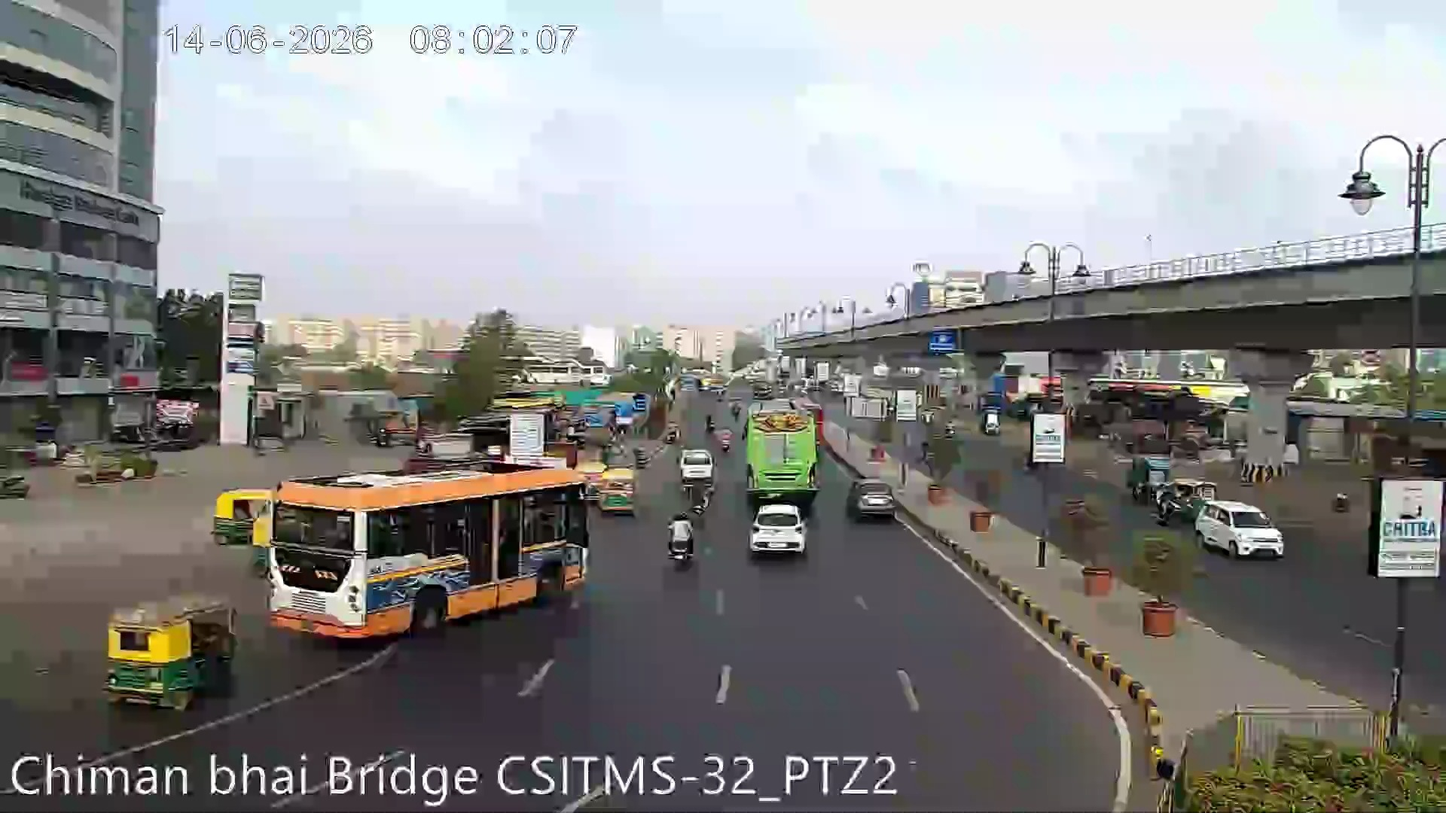auto_rickshaw: (98, 593, 244, 708), (210, 484, 281, 545), (596, 463, 639, 515), (677, 443, 716, 485)
bus: (251, 464, 593, 632), (744, 404, 821, 499)
car: (1192, 495, 1286, 559), (747, 500, 808, 557), (849, 478, 898, 523)
two_wheeler: (662, 507, 699, 570)
